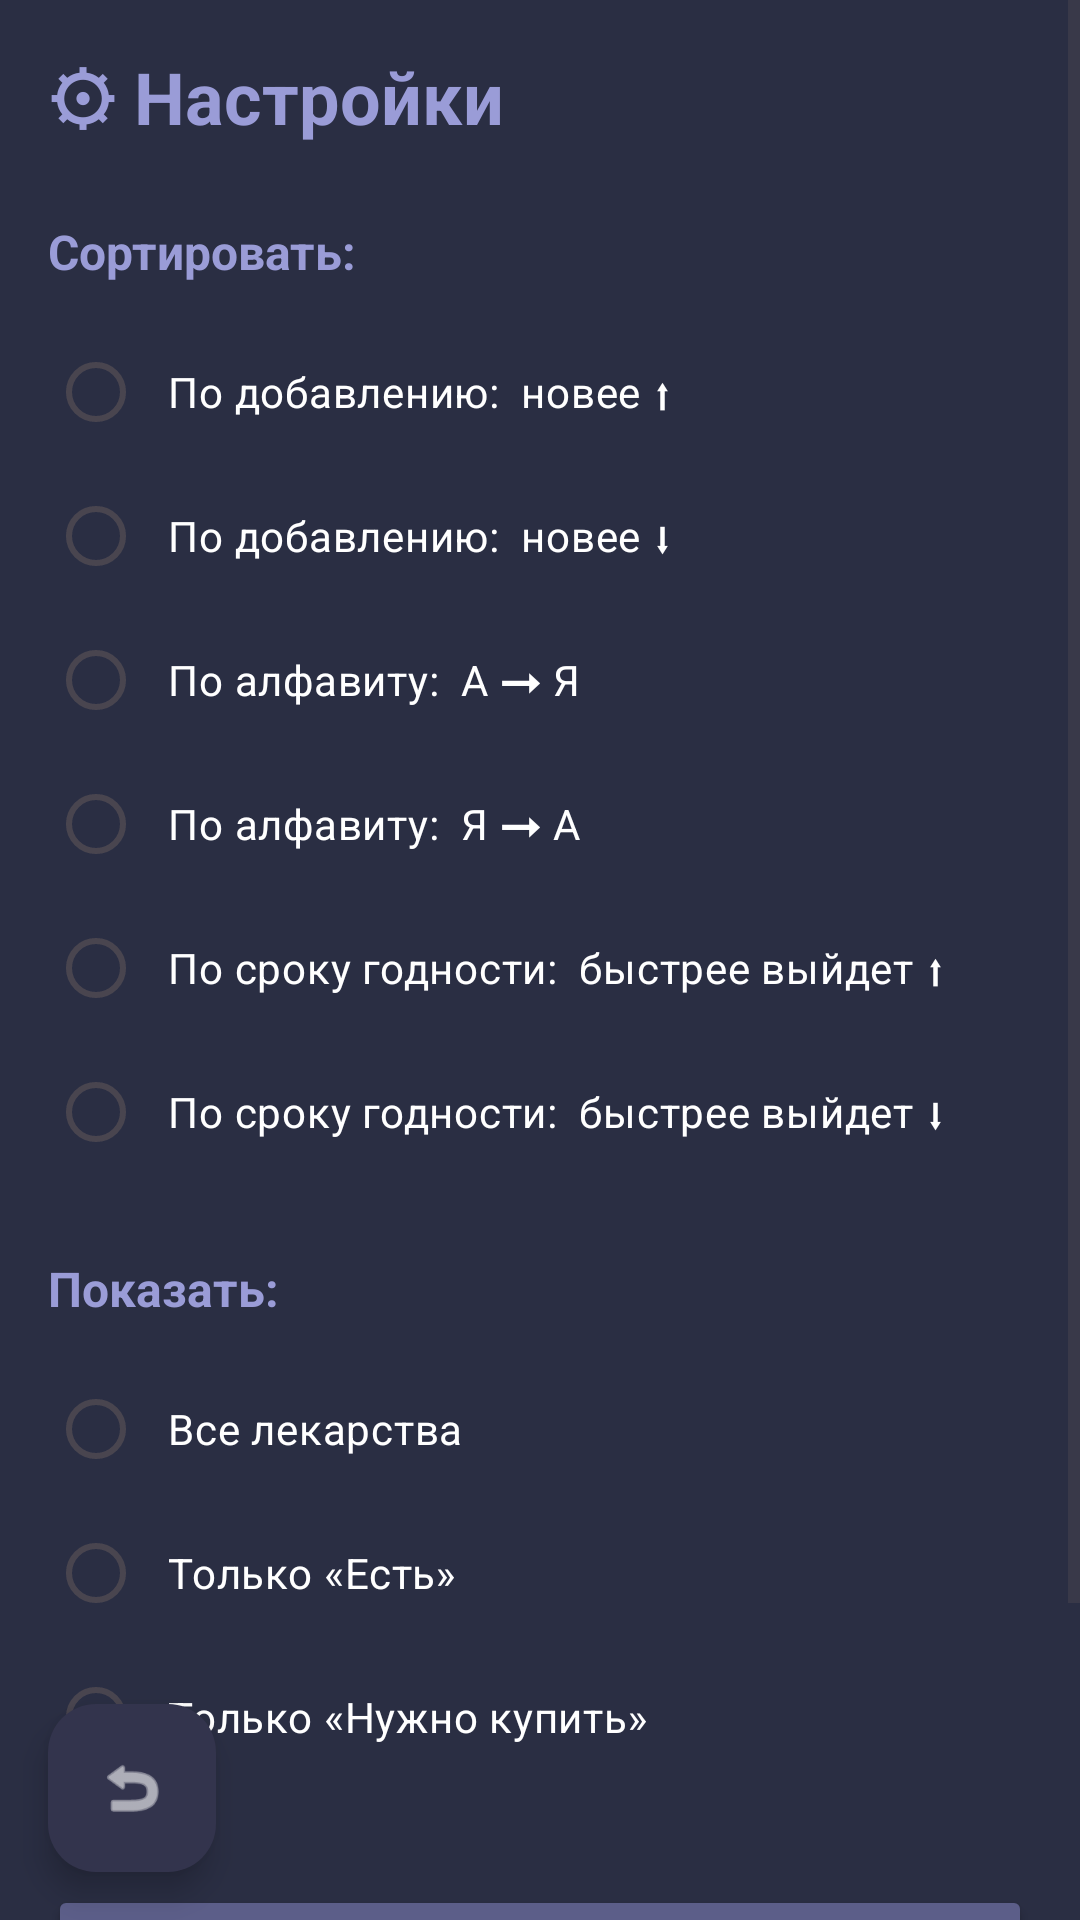

Where to tap for icons on this 1080px x 1920px app screen, as (x=x, y=y):
revert: (x=132, y=1788)
